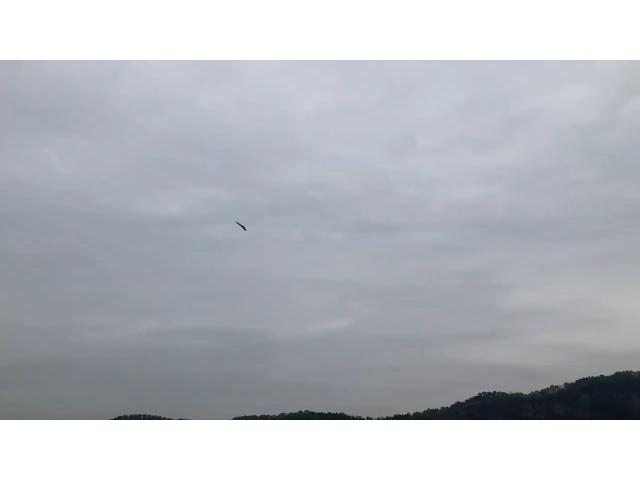Anti-Drone: (224, 216, 260, 238)
